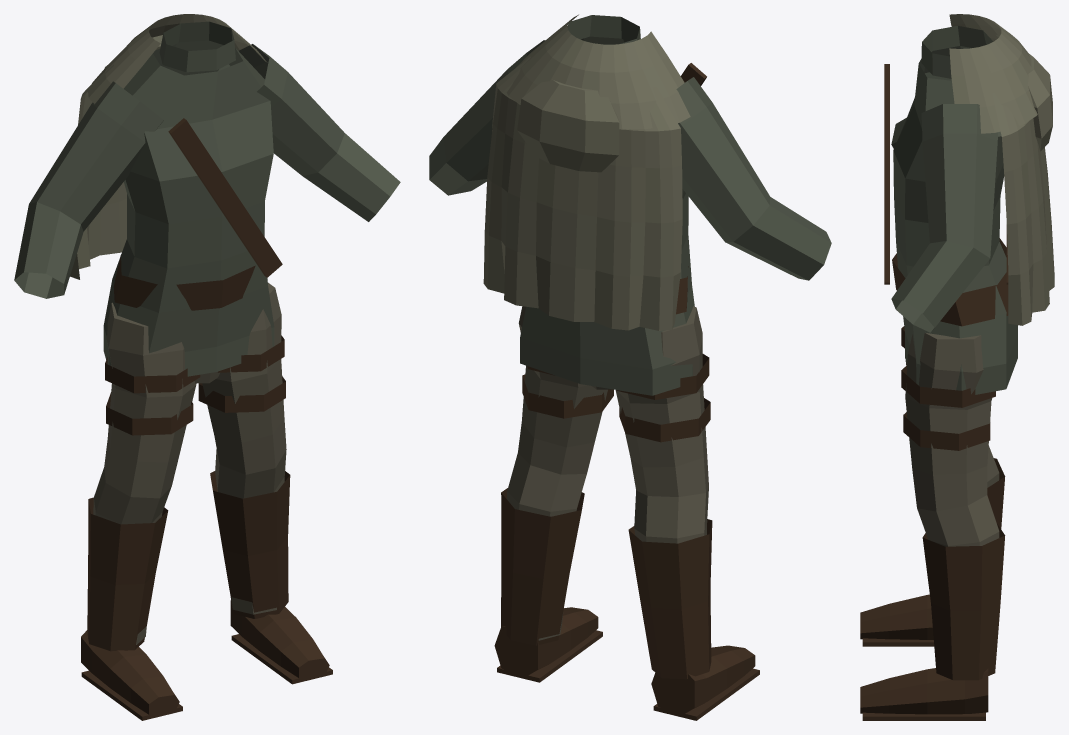
File: tenue_garnison_lod1.glb
3 views of the same model, side by side, from view 1: azimuth 30°, elevation 25°; view 2: azimuth 150°, elevation 25°; view 3: azimuth 270°, elevation 25° (orthographic). The views are drawn at different scales.
Visible parts, largest first — view 1: spine_02, thigh_r, calf_r, calf_l, thigh_l, upperarm_r, upperarm_l, spine_03, pelvis, foot_r, lowerarm_r, foot_l (+2 smaller); view 2: spine_03, calf_r, calf_l, thigh_r, upperarm_r, thigh_l, spine_02, pelvis, lowerarm_r, foot_r, foot_l, upperarm_l (+2 smaller); view 3: spine_03, thigh_l, calf_l, spine_02, upperarm_l, foot_l, lowerarm_l, pelvis, foot_r, neck_01, calf_r.
Part boxes in pixels (bbox=[...]): spine_02: bbox=[103, 40, 282, 353]; thigh_r: bbox=[104, 302, 200, 498]; calf_r: bbox=[87, 467, 171, 651]; calf_l: bbox=[210, 449, 290, 618]; thigh_l: bbox=[198, 282, 286, 474]; upperarm_r: bbox=[29, 81, 163, 231]; upperarm_l: bbox=[218, 44, 344, 175]; spine_03: bbox=[70, 14, 267, 279]; pelvis: bbox=[103, 255, 274, 383]; foot_r: bbox=[81, 630, 182, 720]; lowerarm_r: bbox=[14, 202, 83, 298]; foot_l: bbox=[230, 600, 332, 684]; spine_03: bbox=[483, 14, 690, 330]; calf_r: bbox=[628, 487, 712, 679]; calf_l: bbox=[501, 453, 586, 645]; thigh_r: bbox=[615, 306, 710, 496]; upperarm_r: bbox=[676, 77, 770, 242]; thigh_l: bbox=[518, 306, 613, 474]; spine_02: bbox=[520, 36, 706, 369]; pelvis: bbox=[520, 266, 692, 395]; lowerarm_r: bbox=[725, 197, 831, 280]; foot_r: bbox=[651, 645, 759, 720]; foot_l: bbox=[494, 607, 602, 682]; upperarm_l: bbox=[443, 40, 544, 181]; spine_03: bbox=[949, 14, 1054, 325]; thigh_l: bbox=[901, 333, 995, 511]; calf_l: bbox=[917, 495, 1005, 680]; spine_02: bbox=[884, 46, 1017, 371]; upperarm_l: bbox=[921, 104, 997, 257]; foot_l: bbox=[860, 668, 988, 720]; lowerarm_l: bbox=[891, 241, 989, 332]; pelvis: bbox=[892, 238, 1017, 394]; foot_r: bbox=[860, 594, 934, 646]; neck_01: bbox=[921, 25, 993, 78]; calf_r: bbox=[987, 445, 1005, 528].
Bounding box in the file's own units: 0.9516 × 1.5 × 0.4127.
